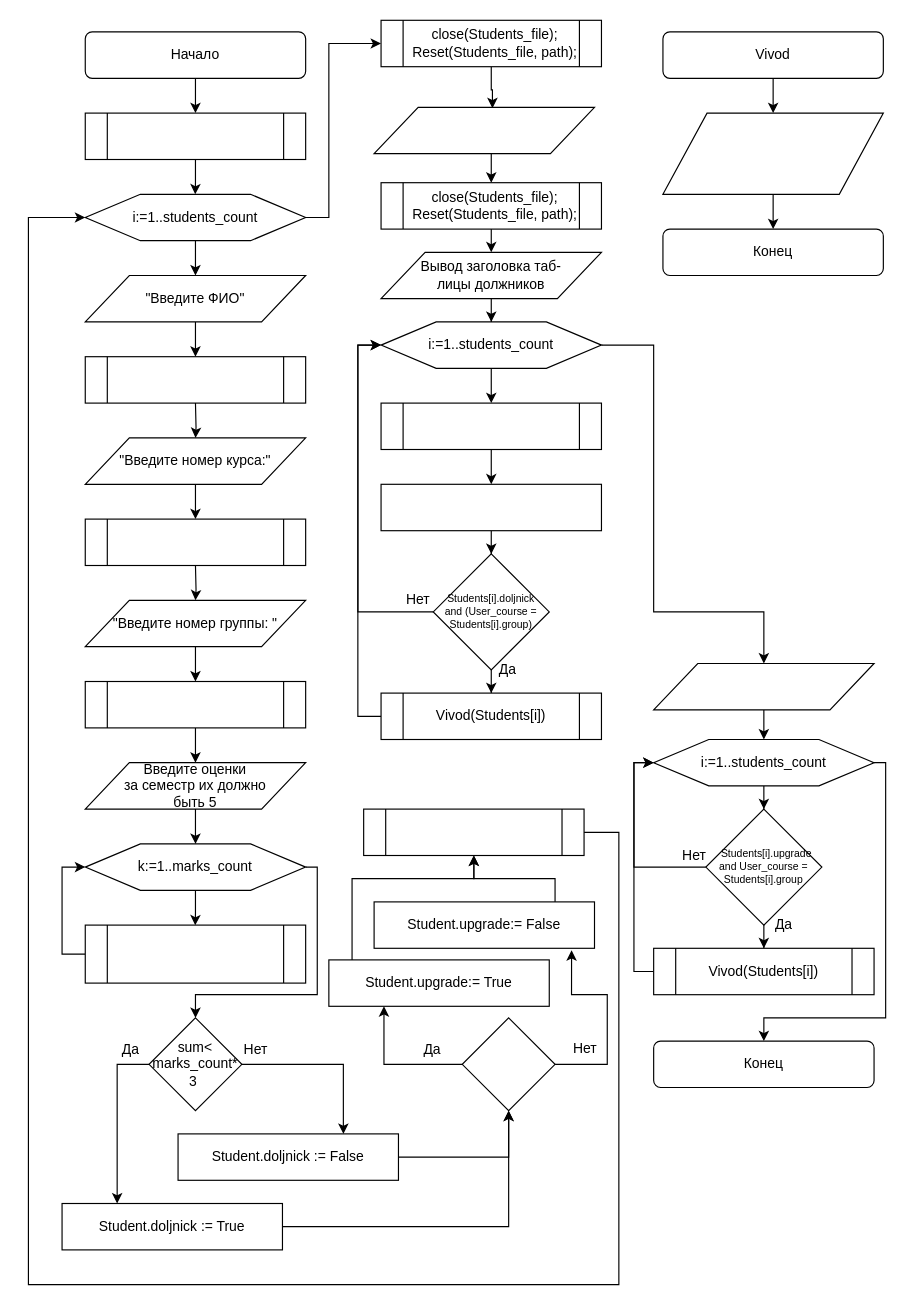
Image size: 915x1314. Some labels were removed from this diagram. The shapes that lost their labels are listed below. From the top down, each one's centre as x and y in pixels, then its label:
the point at 195,136: Assign(Students_file, path); ReWrite(Students_file);
the point at 483,130: Введите группу, для которой соста-тся табл.
the point at 772,153: Вывод отформатирова- нной строки из элементов массива
the point at 195,379: readln(Student.FIO);
the point at 490,425: Seek(Students_file, i - 1); Read(Students_file,Student);
the point at 490,507: Students[i] := Student;
the point at 195,542: readln(Student.kurs);
the point at 195,704: readln(Student.group);
the point at 763,686: Вывод заголовка таб- лицы повышающих стипендию
the point at 473,831: write(Students_file,Student); sum := 0;
the point at 195,953: readln(Student.marks[k]); sum := sum+ Student.marks[k];
the point at 508,1064: Student. marks.Min()> 4
